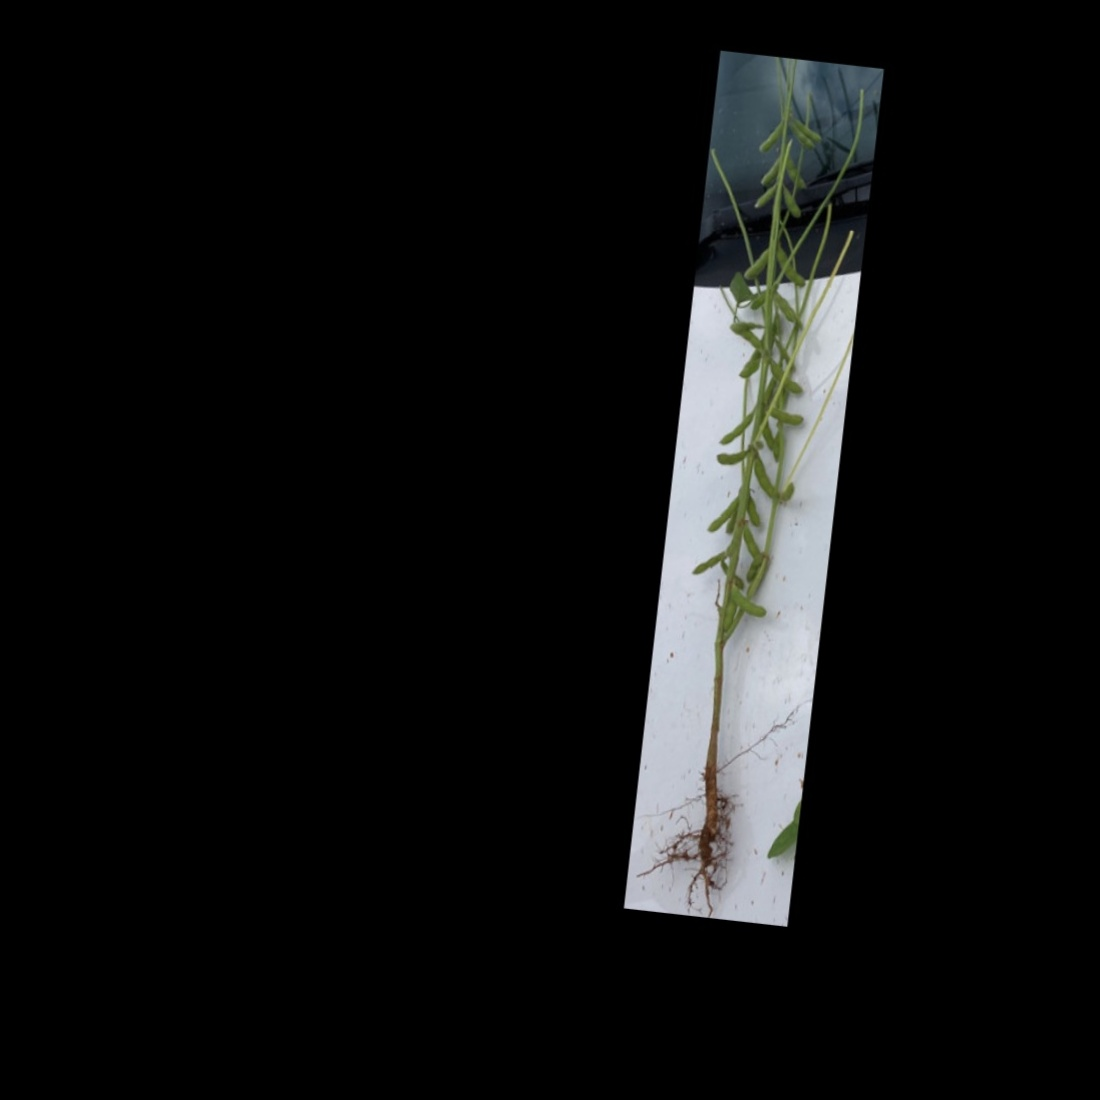pod: (771, 242, 810, 291), (763, 358, 810, 398), (703, 492, 742, 538), (746, 448, 780, 500), (689, 546, 736, 578), (718, 410, 757, 449), (770, 289, 808, 328), (783, 112, 826, 144), (730, 583, 770, 618), (737, 523, 772, 563), (774, 180, 806, 223), (757, 112, 785, 157), (740, 244, 770, 285), (782, 121, 820, 152), (782, 156, 811, 191), (712, 443, 748, 470), (765, 407, 806, 429), (759, 154, 785, 188), (750, 181, 777, 211), (744, 550, 767, 584)
soy: (651, 77, 860, 876)
